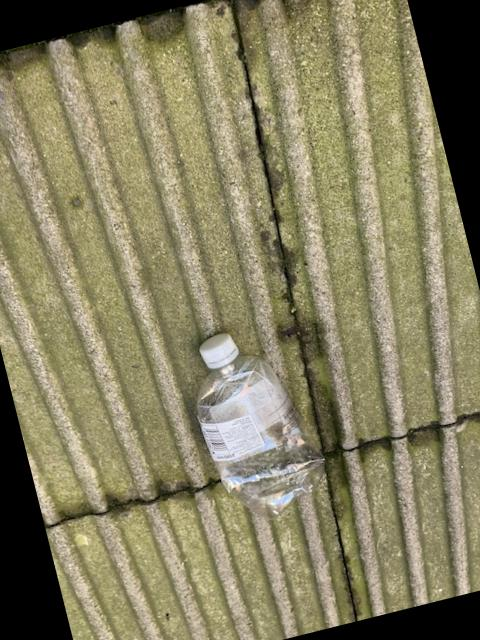plastic: (195, 334, 322, 518)
